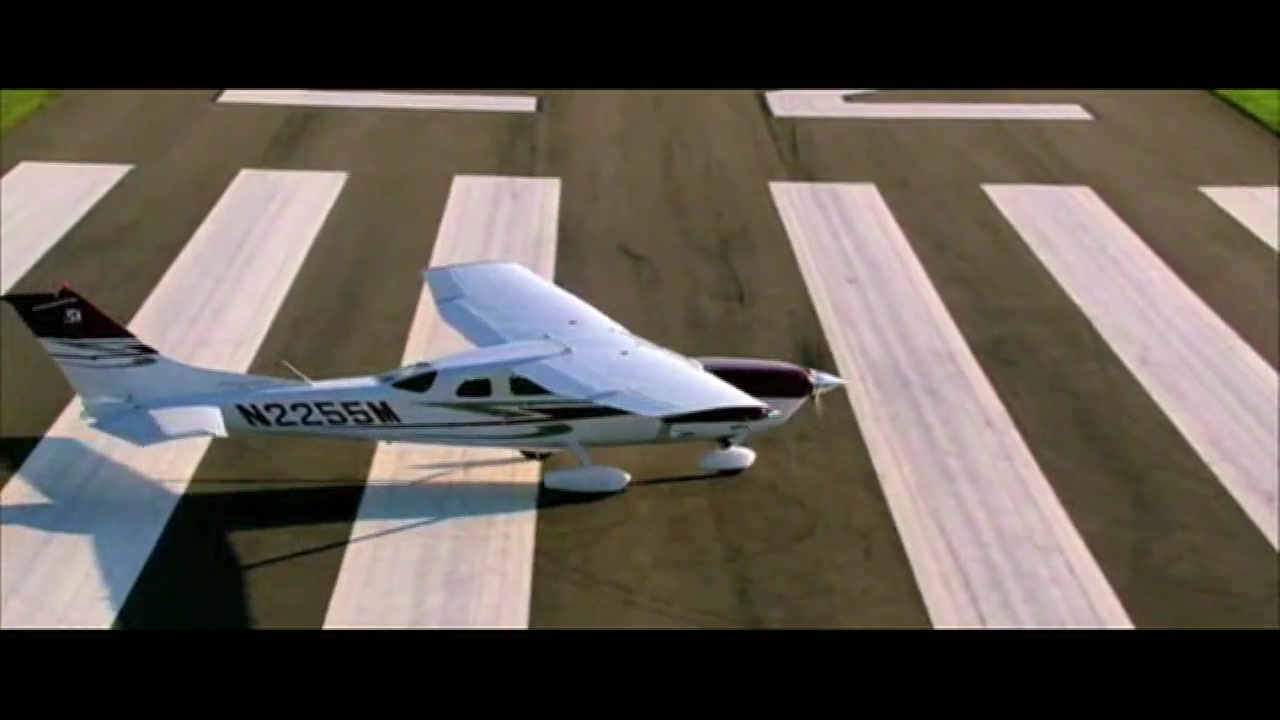aeroplane: (2, 262, 851, 499)
